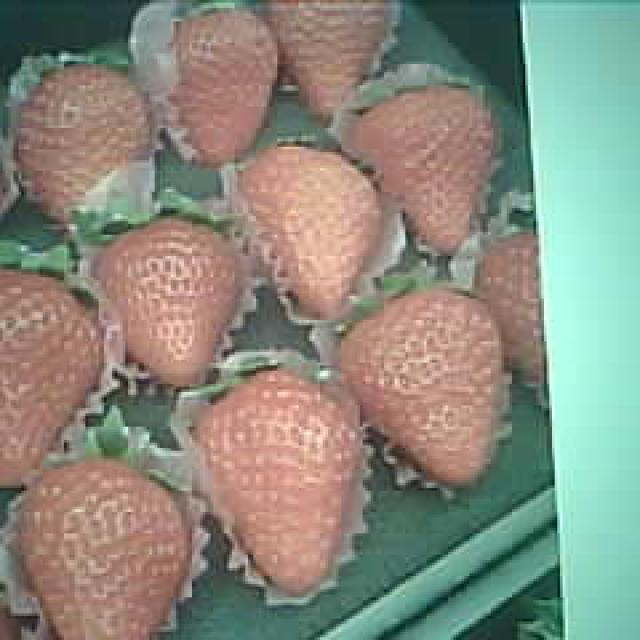ripe: (202, 372, 361, 593), (346, 288, 506, 482), (23, 461, 190, 640), (245, 142, 384, 316), (0, 268, 109, 486), (363, 80, 496, 256), (106, 215, 243, 384), (21, 59, 152, 225), (171, 10, 276, 163), (270, 0, 390, 120)
